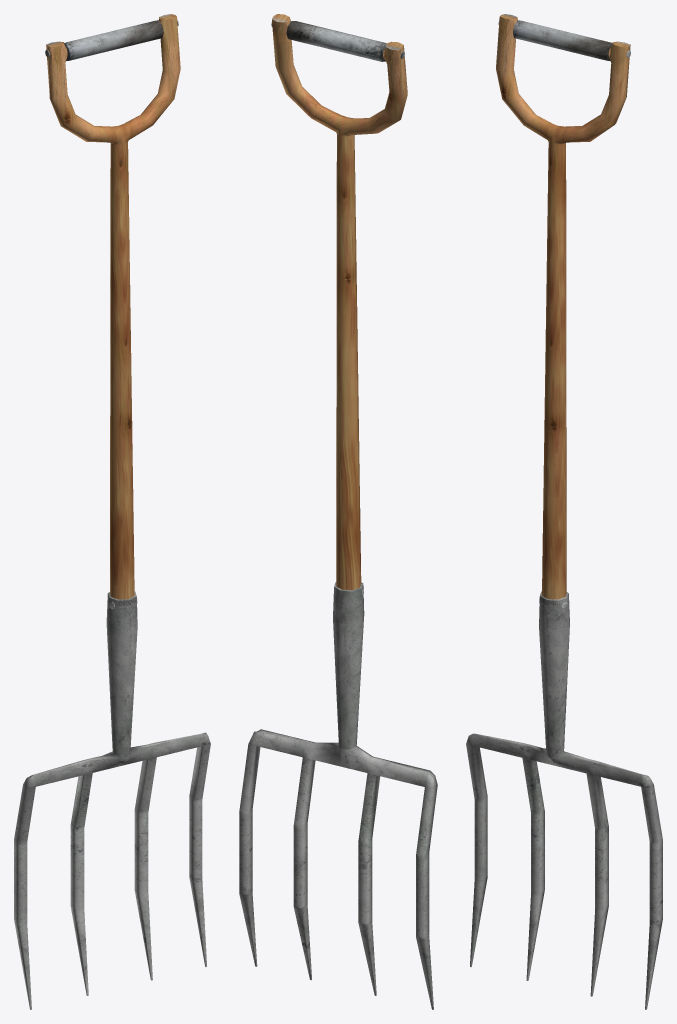
The model's file is pitchfork.fbx.
3 renders of one model, left to right at view 1: azimuth 30°, elevation 25°; view 2: azimuth 150°, elevation 25°; view 3: azimuth 330°, elevation 25°, orthographic.
Parts seen in each view (by area): view 1: mainBody; view 2: mainBody; view 3: mainBody.
Part boxes in pixels (bbox=[...]): mainBody: bbox=[14, 14, 210, 1009]; mainBody: bbox=[239, 14, 437, 1009]; mainBody: bbox=[466, 14, 662, 1009].
Bounding box in the file's own units: 32.97 × 165 × 7.86.
Materials: 2 (2 with a texture image).
